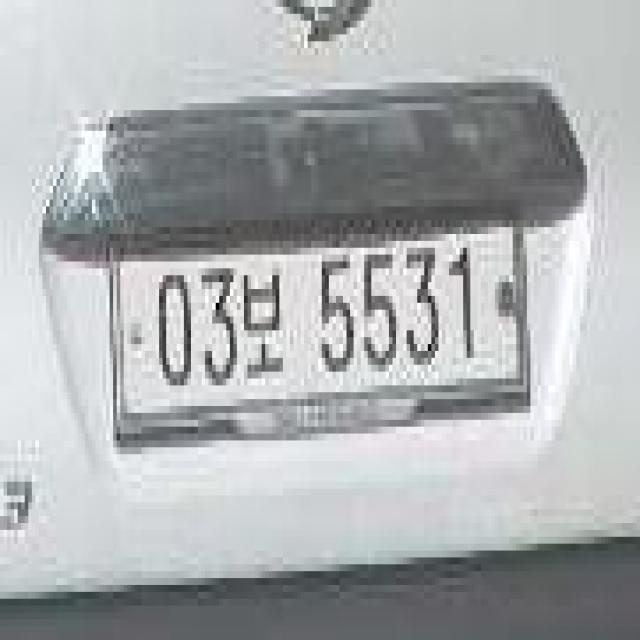illegal_plate: (108, 215, 531, 452)
